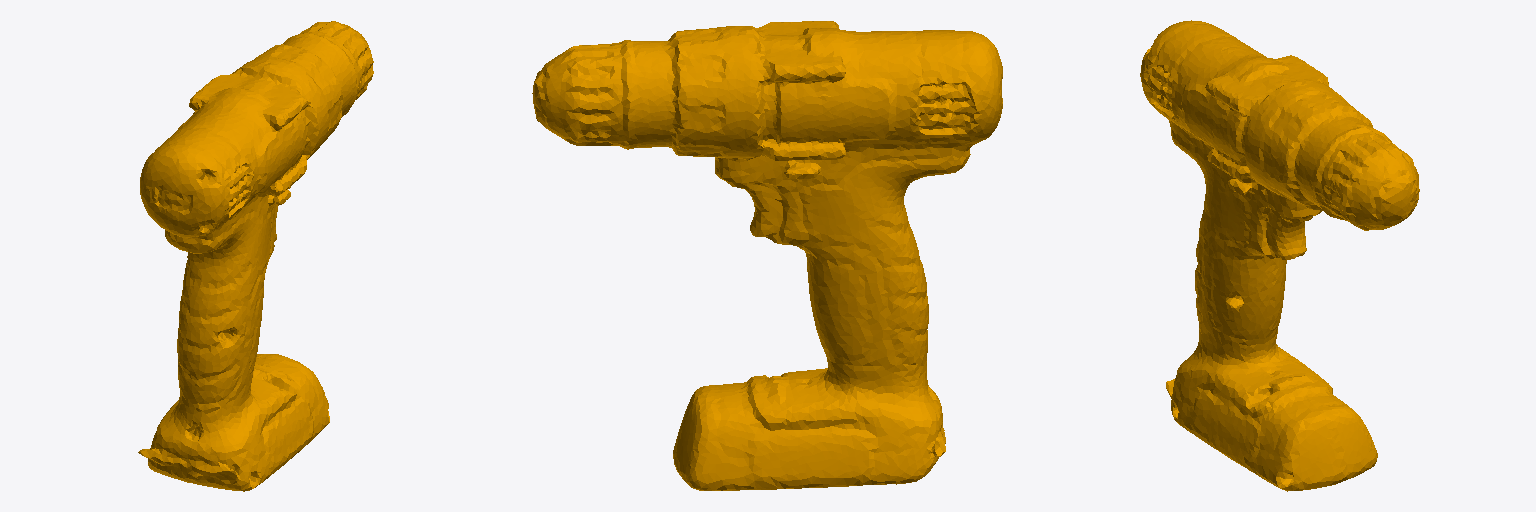
robot.urdf — model.urdf:
<?xml version="0.0" ?>
<robot name="model.urdf">
  <link name="baseLink">
    <contact>
      <lateral_friction value="1.0"/>
      <rolling_friction value="0.0"/>
      <contact_cfm value="0.0"/>
      <contact_erp value="1.0"/>
    </contact>
    <inertial>
       <mass value=".895"/>
       <inertia ixx="1e-3" ixy="0" ixz="0" iyy="1e-3" iyz="0" izz="1e-3"/>
    </inertial>
    <visual>
      <geometry>
        <mesh filename="textured_simple_reoriented.obj" scale="1 1 1"/>
      </geometry>
    </visual>
    <collision>
      <geometry>
    	 	<mesh filename="collision_vhacd.obj" scale="1 1 1"/>
      </geometry>
    </collision>
  </link>
</robot>

--- Facts derived from the render (not from the file) ---
The picture shows the robot from 3 angles, left to right: view 1: azimuth 30°, elevation 25°; view 2: azimuth 150°, elevation 25°; view 3: azimuth 270°, elevation 25°; orthographic projection.
Model model.urdf with 1 links and 0 joints (none), rooted at baseLink, posed every joint at zero.
Visible links, largest first — view 1: baseLink; view 2: baseLink; view 3: baseLink.
Boxes of the visible links, x1,y1,x2,y2 form: baseLink: (138,21,373,491); baseLink: (532,21,1002,490); baseLink: (1140,20,1419,491).
Bounding box of the posed robot: 0.163 × 0.1232 × 0.1874 m (x, y, z).
1 mesh visuals loaded from 1 distinct referenced files (1 OBJ).